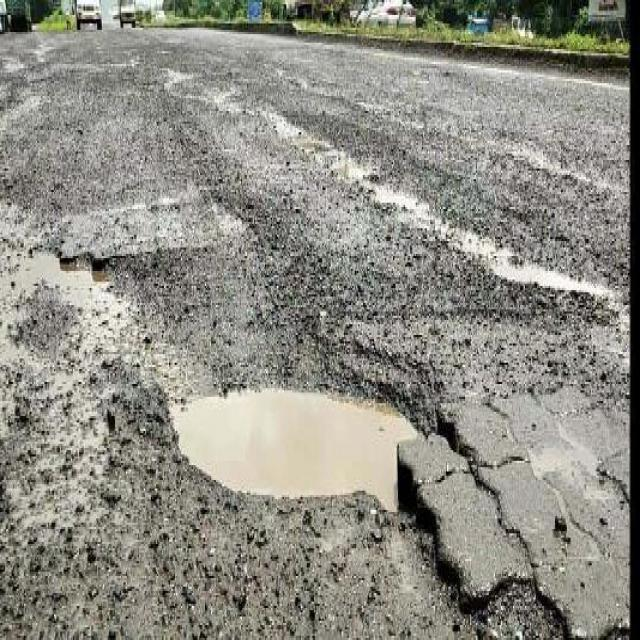buraco: (165, 368, 470, 518), (161, 378, 426, 518)
